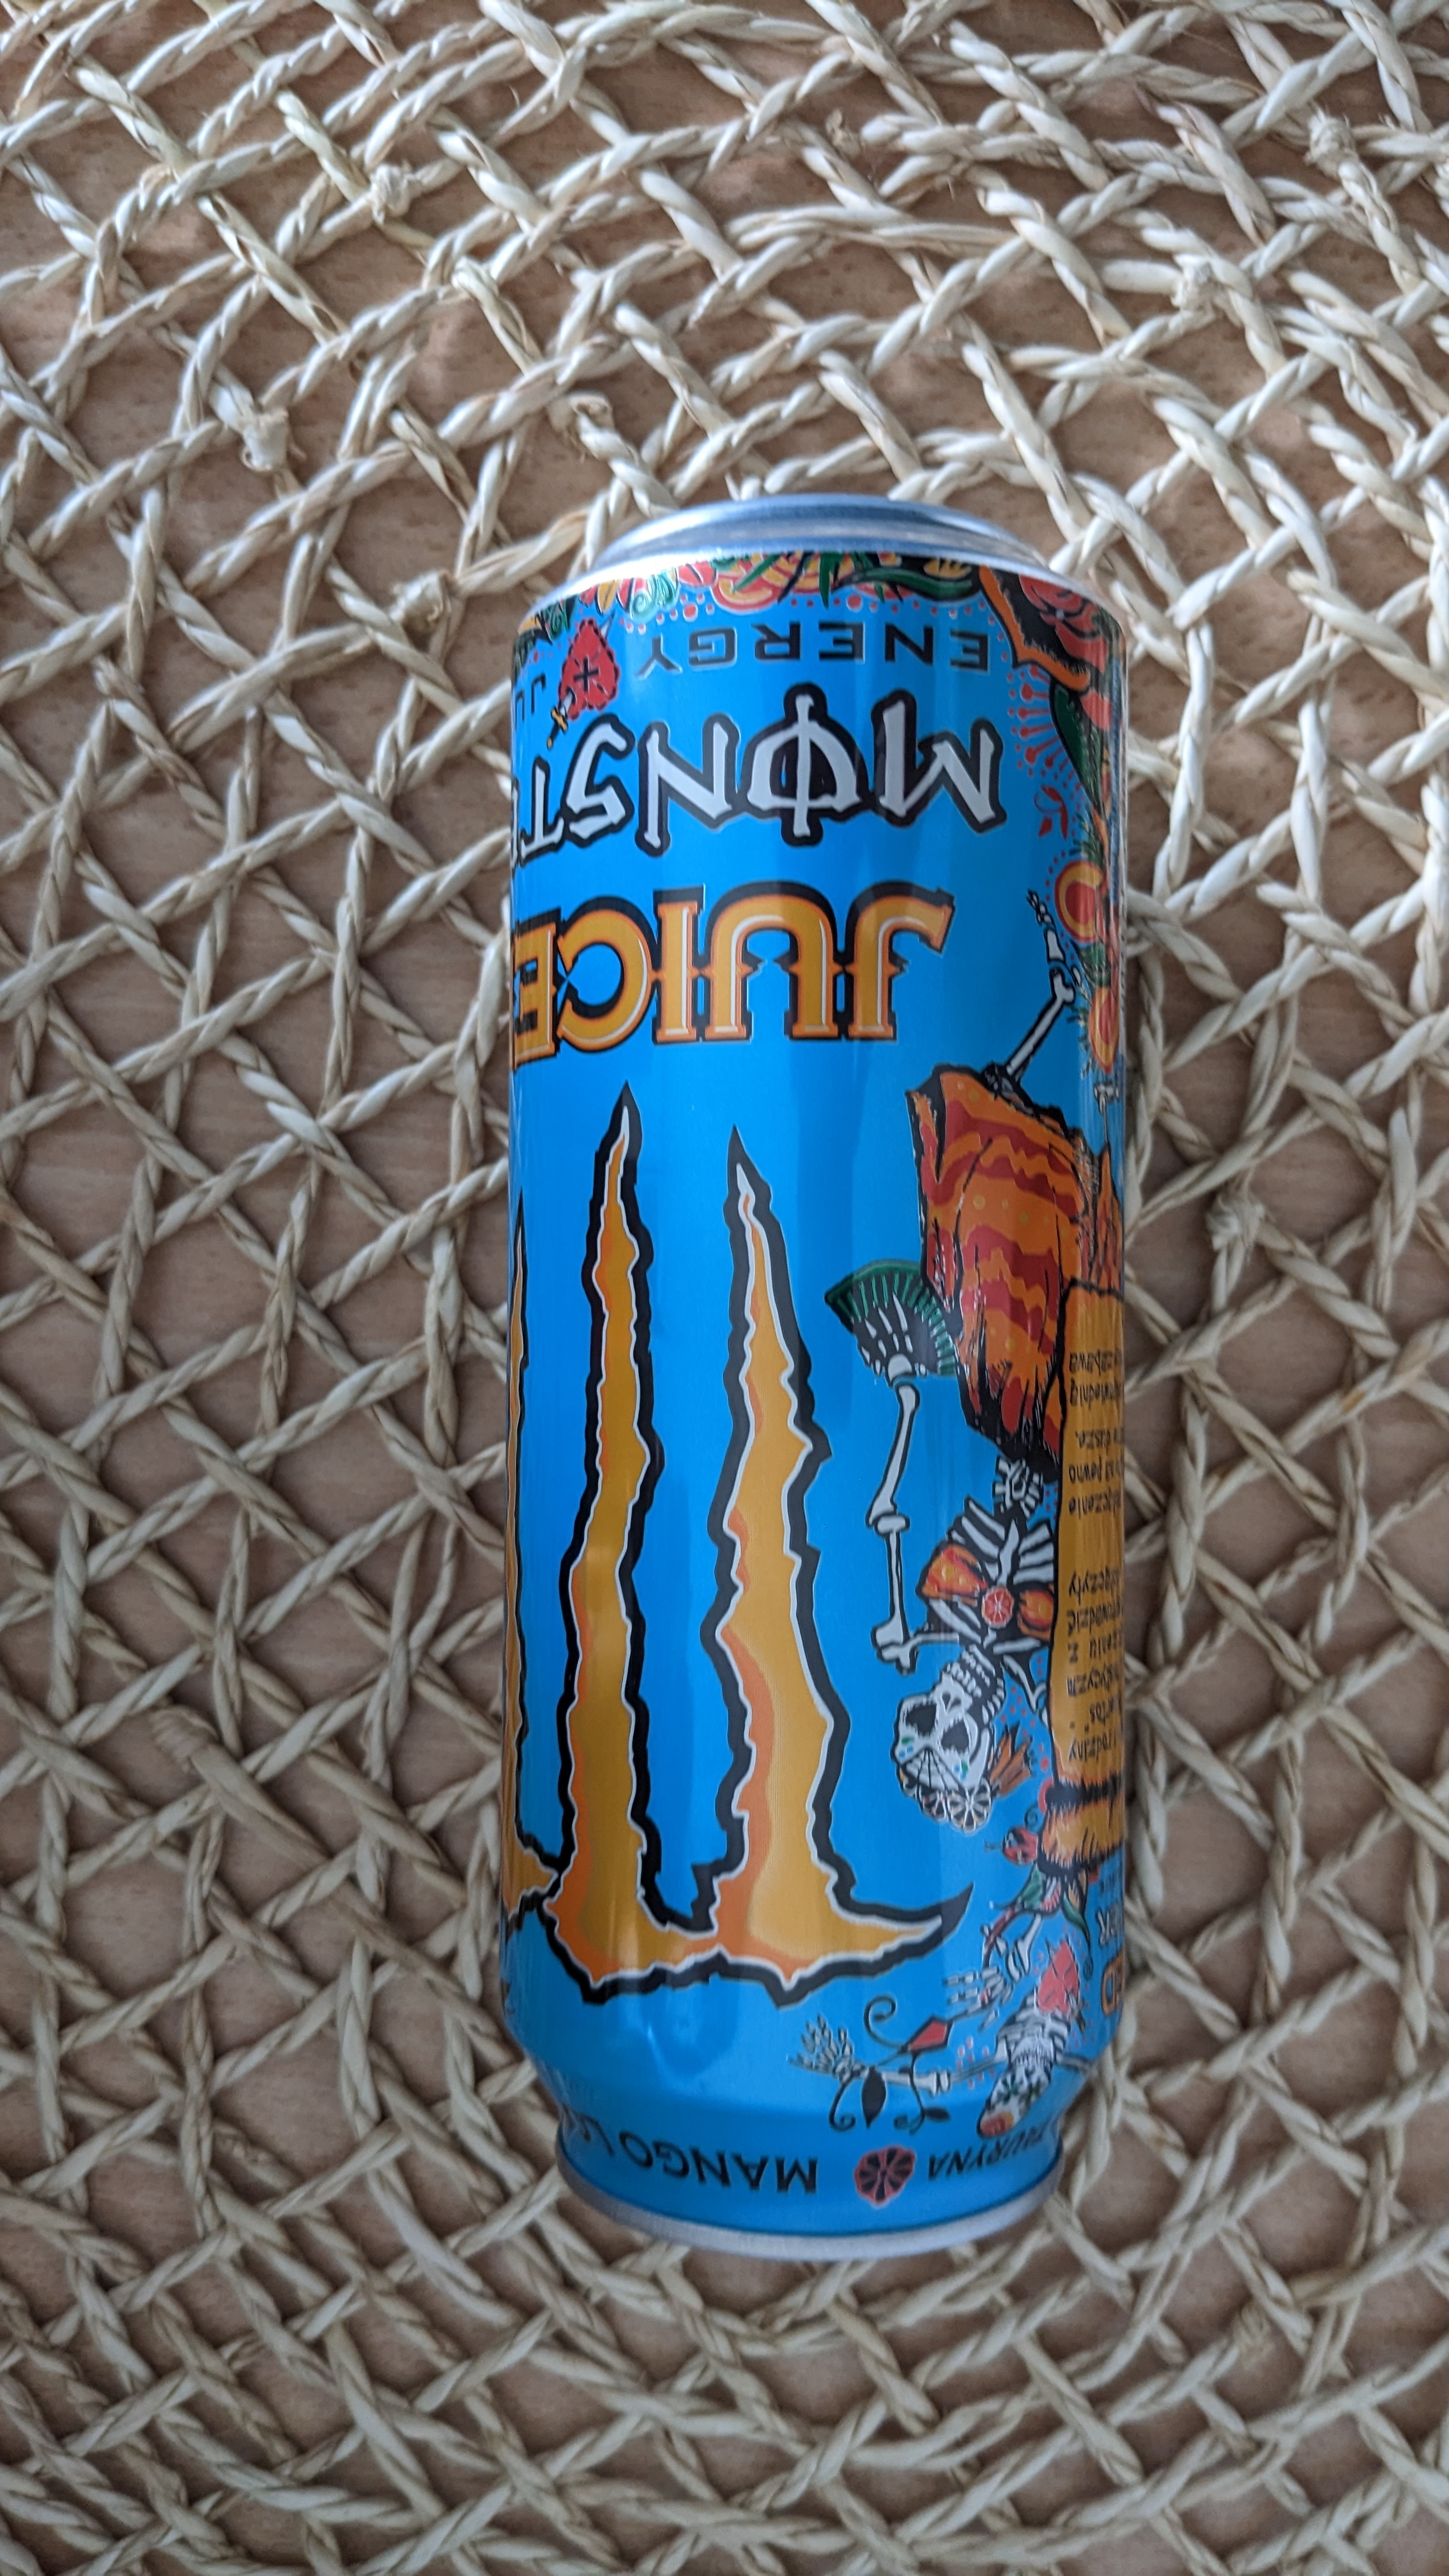monster: (478, 456, 1150, 2270)
